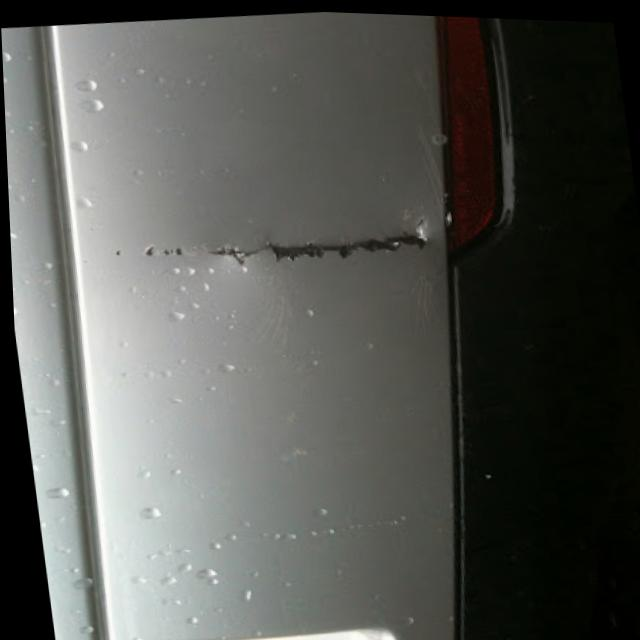Crack: (138, 216, 434, 264)
